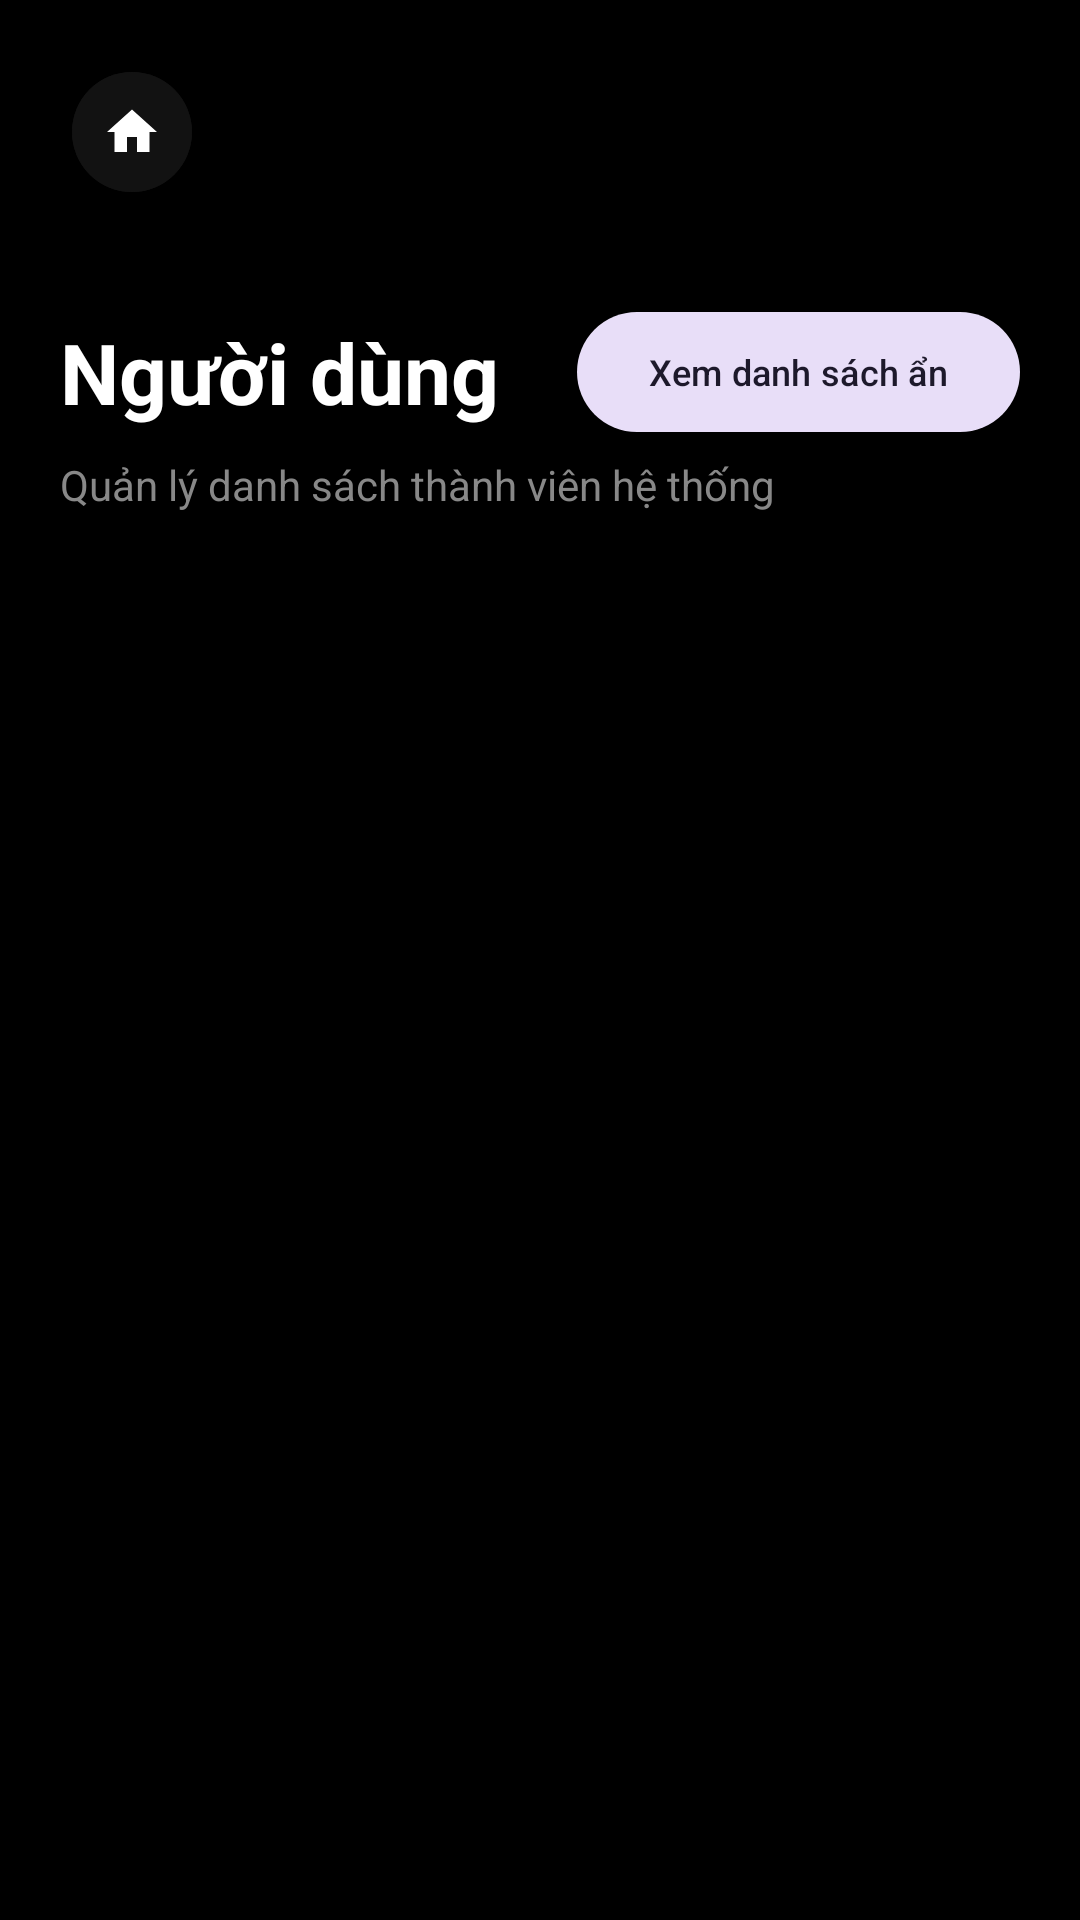

Screen size 1080w x 1920h. Icon name, then its center in pixels as point (x, y):
home: point (132, 130)
